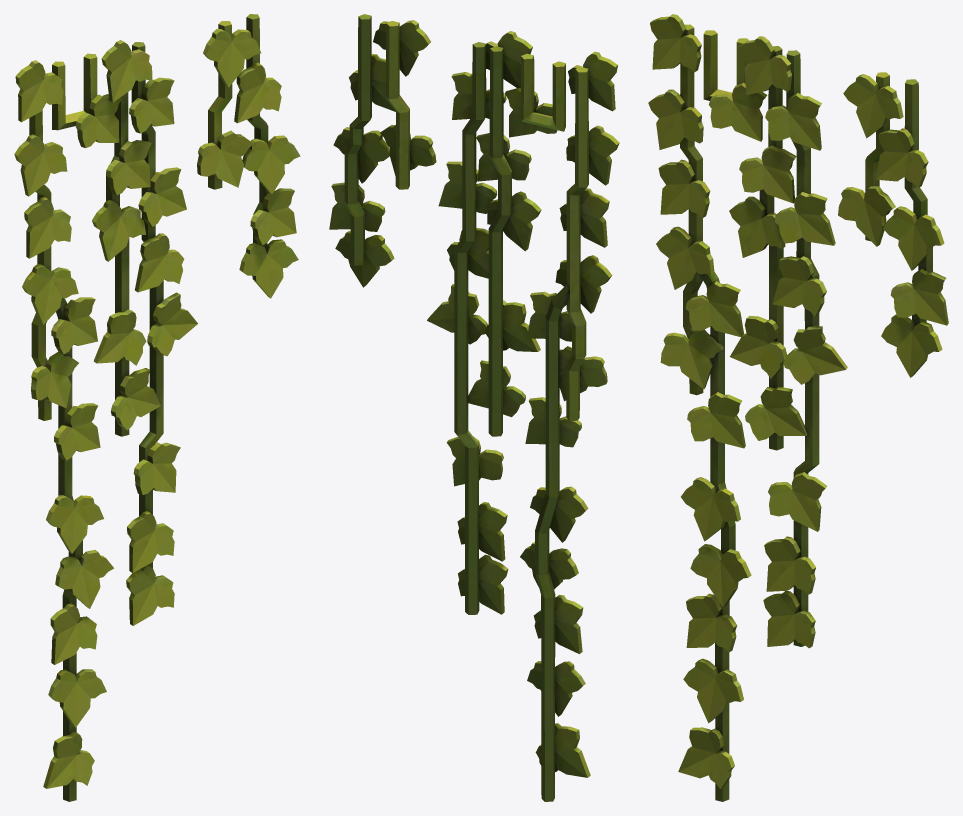
File: vine_vines_google.glb
3 views of the same model, side by side, from view 1: azimuth 30°, elevation 25°; view 2: azimuth 150°, elevation 25°; view 3: azimuth 330°, elevation 25° (orthographic). The views are drawn at different scales.
Parts seen in each view (by area): view 1: ivy; view 2: ivy; view 3: ivy.
Part boxes in pixels (x1,y1,x2,y2): ivy: (14,14,300,801); ivy: (329,14,619,801); ivy: (648,14,948,801).
Bounding box in the file's own units: 0.9185 × 2.32 × 0.0938.
1 material, 1 textured.
